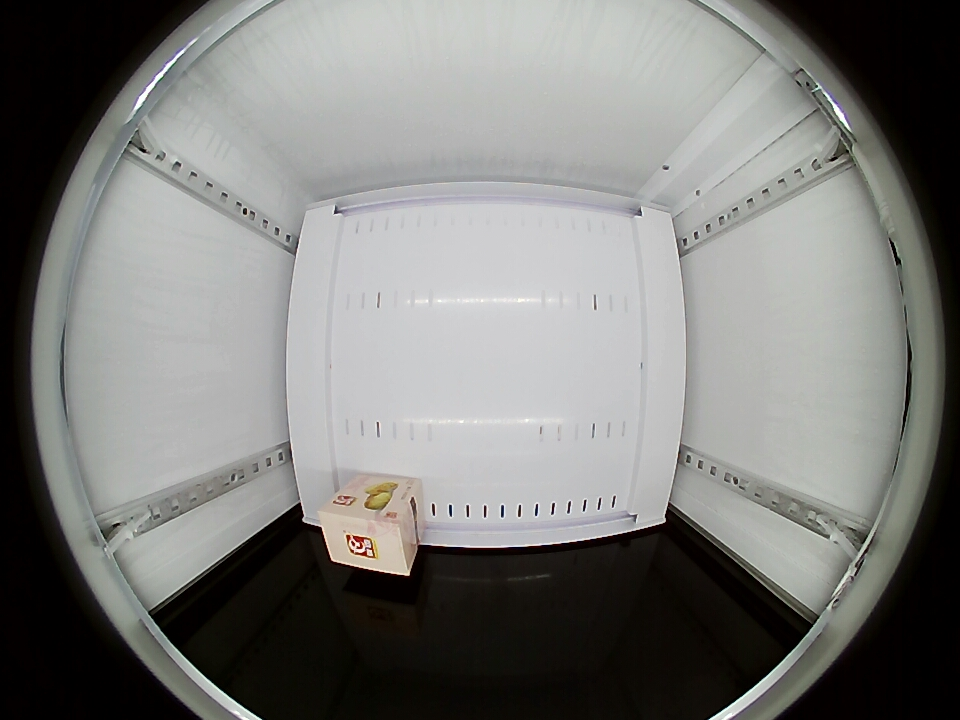rousongbing: (318, 489, 416, 577)
